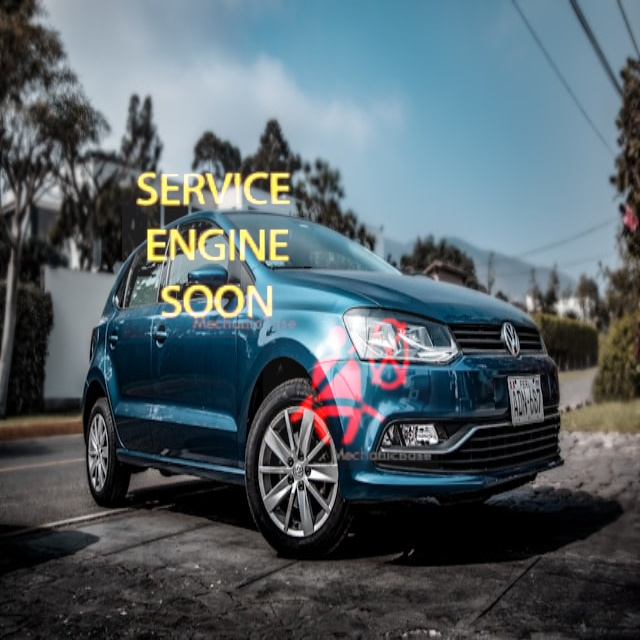symbol: (122, 157, 303, 338), (263, 294, 438, 469)
